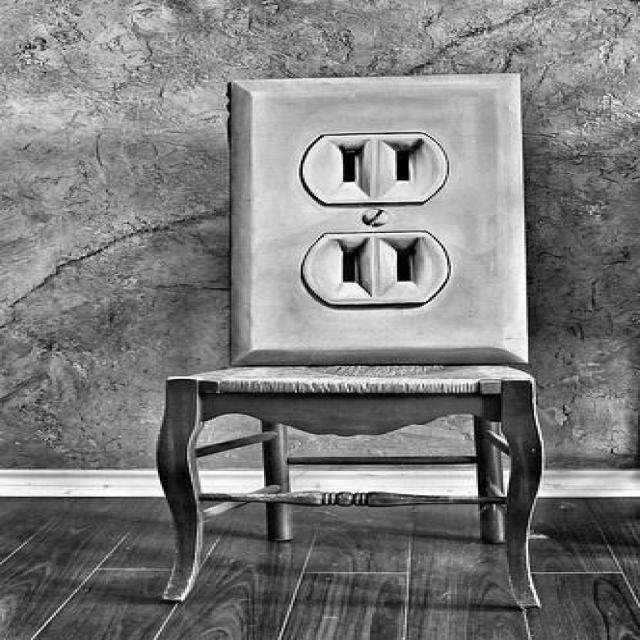chair: (156, 75, 545, 606)
